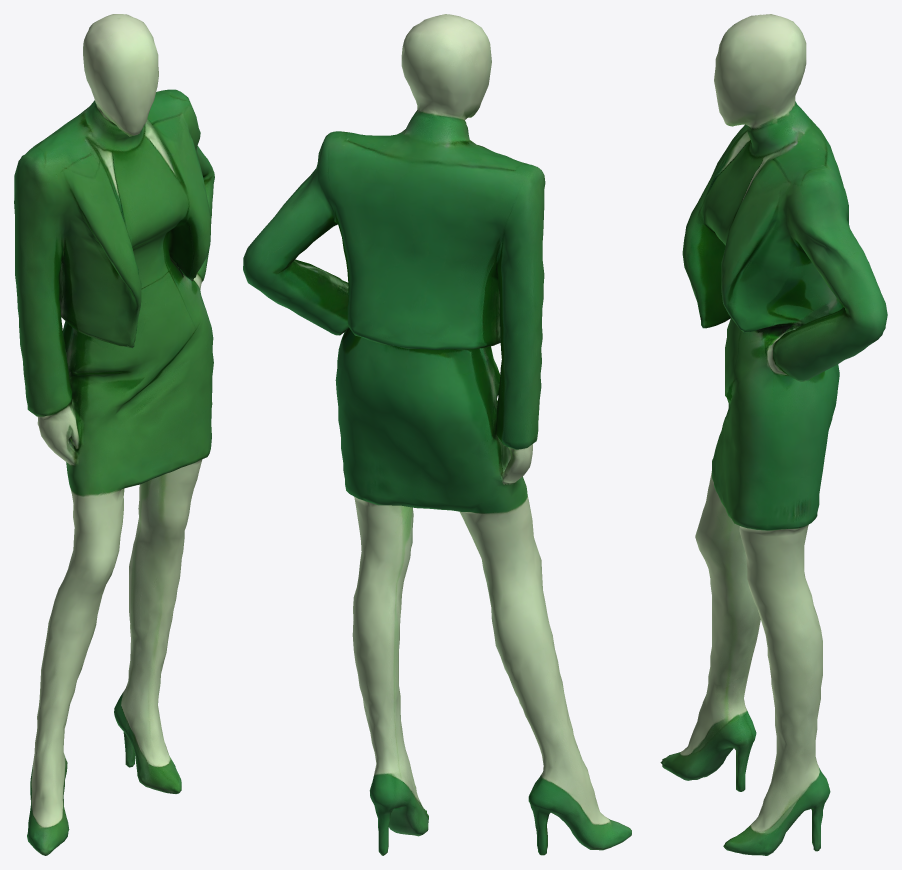
The model's file is mannequin2.glb.
3 renders of one model, left to right at view 1: azimuth 30°, elevation 25°; view 2: azimuth 150°, elevation 25°; view 3: azimuth 270°, elevation 25°, orthographic. The views are drawn at different scales.
Bounding box in the file's own units: 0.7187 × 2 × 0.5052.
1 material, 1 textured.
